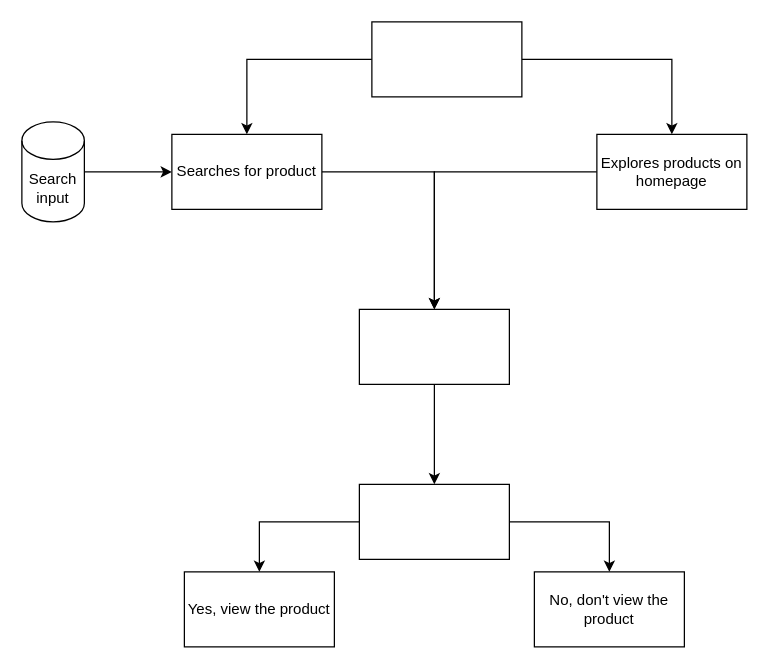
The diagram is 769 pixels wide and 669 high, and some of its shapes have lost their labels. Each missing label, with the centre of its shape:
"Begins to look over products" belongs at (433,346).
"Option of viewing specific product" belongs at (433,521).
"User enters site" belongs at (446,59).
